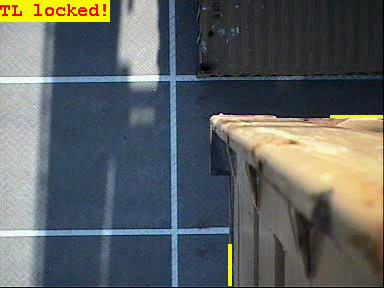groundmarker_2: (128, 211, 200, 259), (131, 146, 194, 188), (130, 6, 193, 48)
